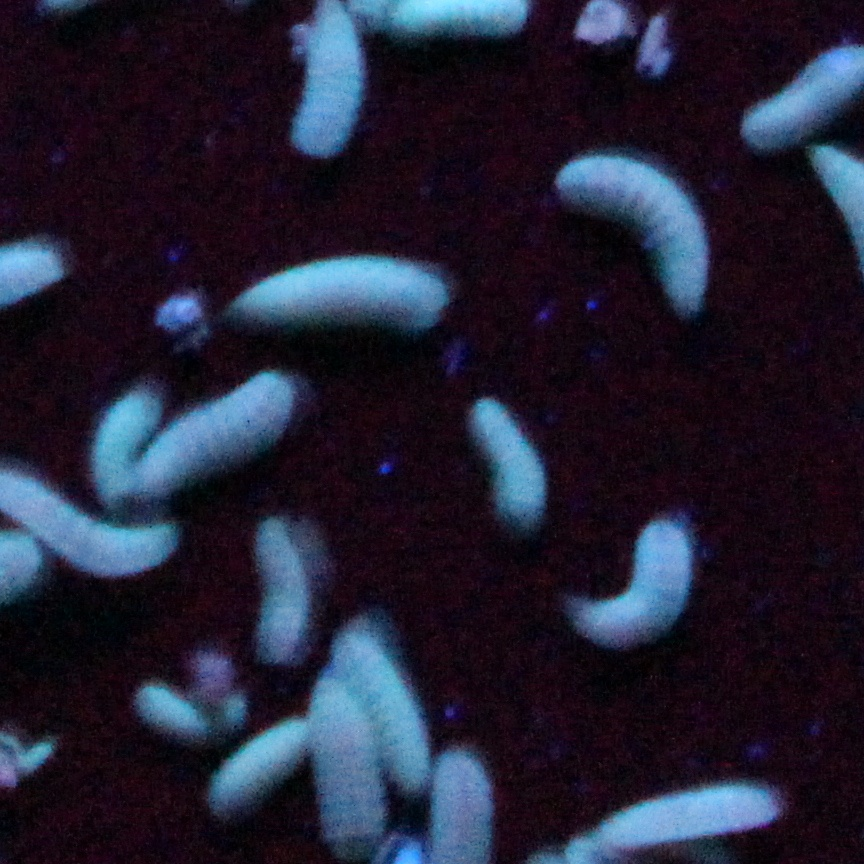larve: (553, 158, 706, 314), (139, 374, 293, 490), (228, 257, 446, 327), (575, 520, 689, 647), (337, 634, 427, 790), (309, 682, 384, 858), (604, 783, 780, 851), (471, 396, 543, 519), (213, 718, 306, 813), (89, 389, 161, 500), (255, 518, 308, 659), (137, 686, 207, 736)
